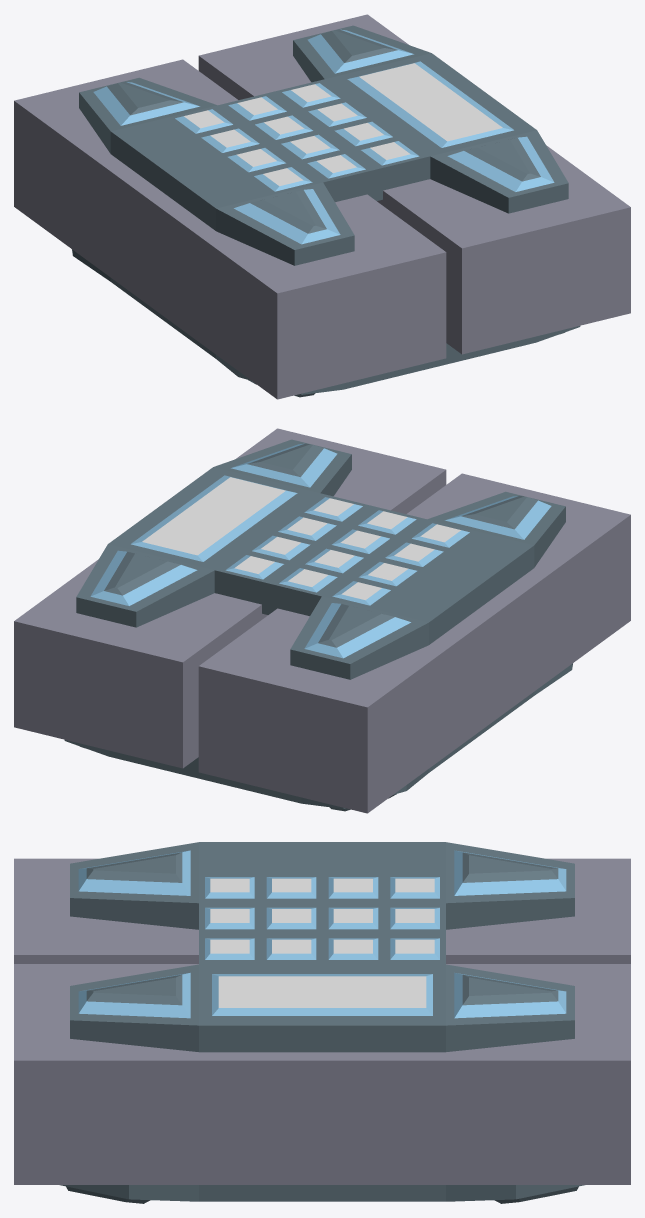
The model's file is В3-Пластитная взрывчатка.fbx.
The picture shows the model from 3 angles, top to bottom: view 1: azimuth 30°, elevation 25°; view 2: azimuth 150°, elevation 25°; view 3: azimuth 270°, elevation 25°; orthographic projection. The views are drawn at different scales.
Visible parts, largest first — view 1: Cube.002, Cube, Cube.001, Cube.003; view 2: Cube.002, Cube, Cube.001, Cube.003; view 3: Cube.001, Cube.002, Cube, Cube.003.
Boxes of the visible parts, x1=… form: Cube.002: x1=79, y1=25, x2=568, y2=265; Cube: x1=14, y1=59, x2=446, y2=399; Cube.001: x1=198, y1=14, x2=630, y2=354; Cube.003: x1=72, y1=249, x2=580, y2=397; Cube.002: x1=76, y1=439, x2=565, y2=679; Cube: x1=198, y1=473, x2=630, y2=813; Cube.001: x1=14, y1=428, x2=446, y2=768; Cube.003: x1=64, y1=663, x2=572, y2=811; Cube.001: x1=14, y1=964, x2=630, y2=1184; Cube.002: x1=70, y1=842, x2=574, y2=1052; Cube: x1=14, y1=858, x2=630, y2=963; Cube.003: x1=60, y1=1185, x2=584, y2=1203.
Size of the model in its own units: 209 by 93.57 by 270.
